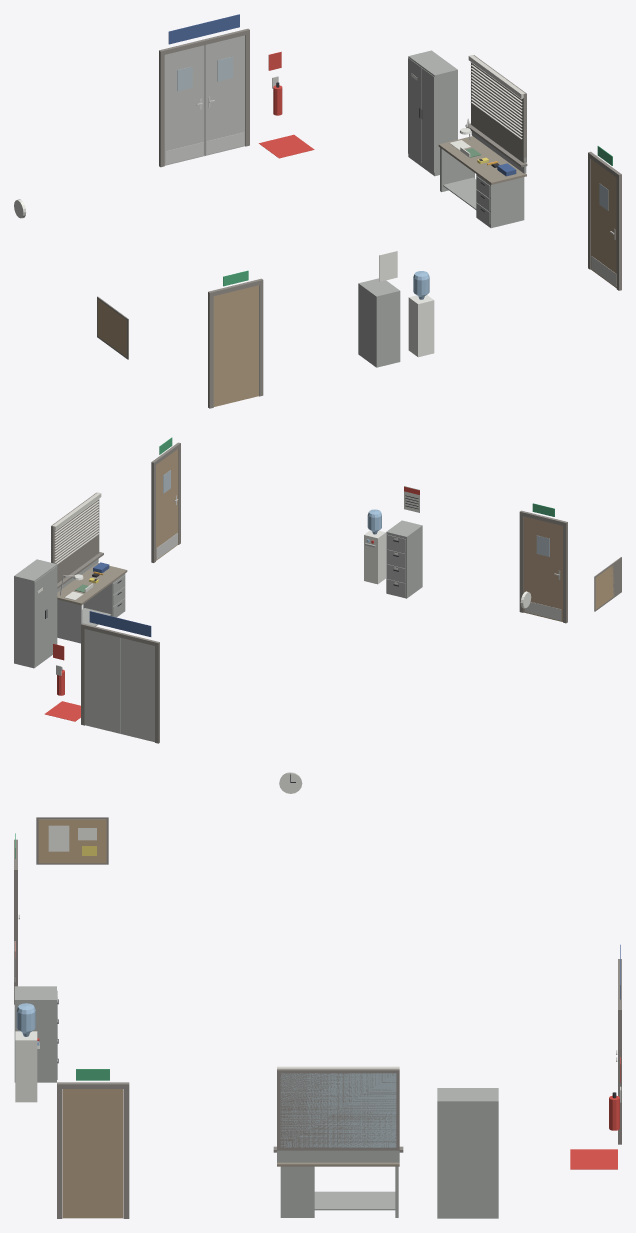
Rendered from sala-telma.fbx.
3 renders of one model, top to bottom at view 1: azimuth 30°, elevation 25°; view 2: azimuth 150°, elevation 25°; view 3: azimuth 270°, elevation 25°, orthographic. The views are drawn at different scales.
Parts seen in each view (by area): view 1: Sala TELMA; view 2: Sala TELMA; view 3: Sala TELMA.
Part boxes in pixels (x1,y1,x2,y2): Sala TELMA: (14, 14, 621, 408); Sala TELMA: (14, 437, 621, 743); Sala TELMA: (14, 772, 621, 1218).
Bounding box in the file's own units: 9.91 × 2.62 × 8.92.
1 material, 1 textured.
